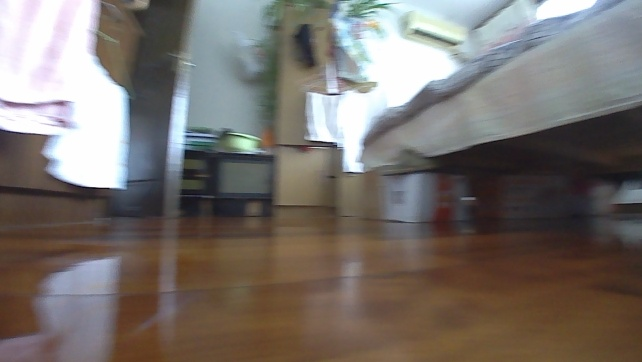bed1: (355, 0, 641, 224)
door: (105, 0, 195, 219)
